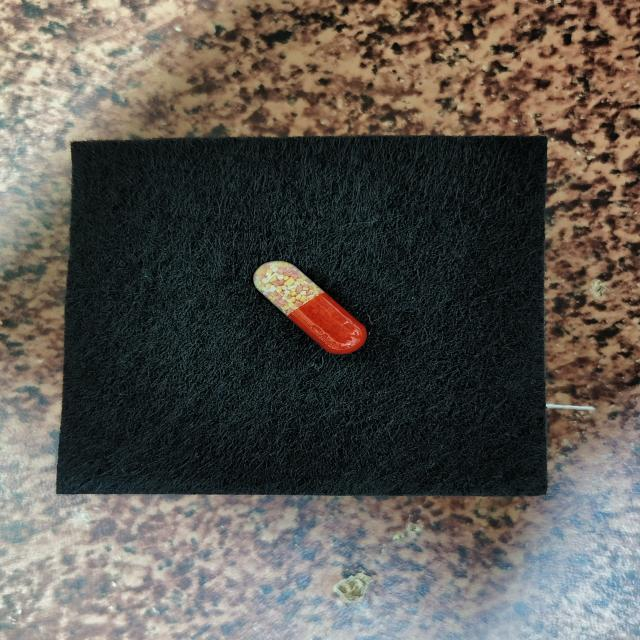Intact Capsule: (253, 260, 367, 354)
